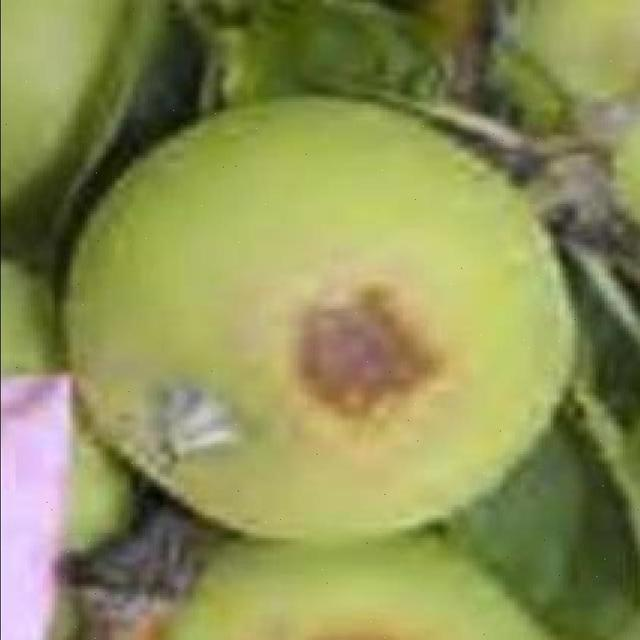Sunscald Fruit: (169, 171, 302, 306)
